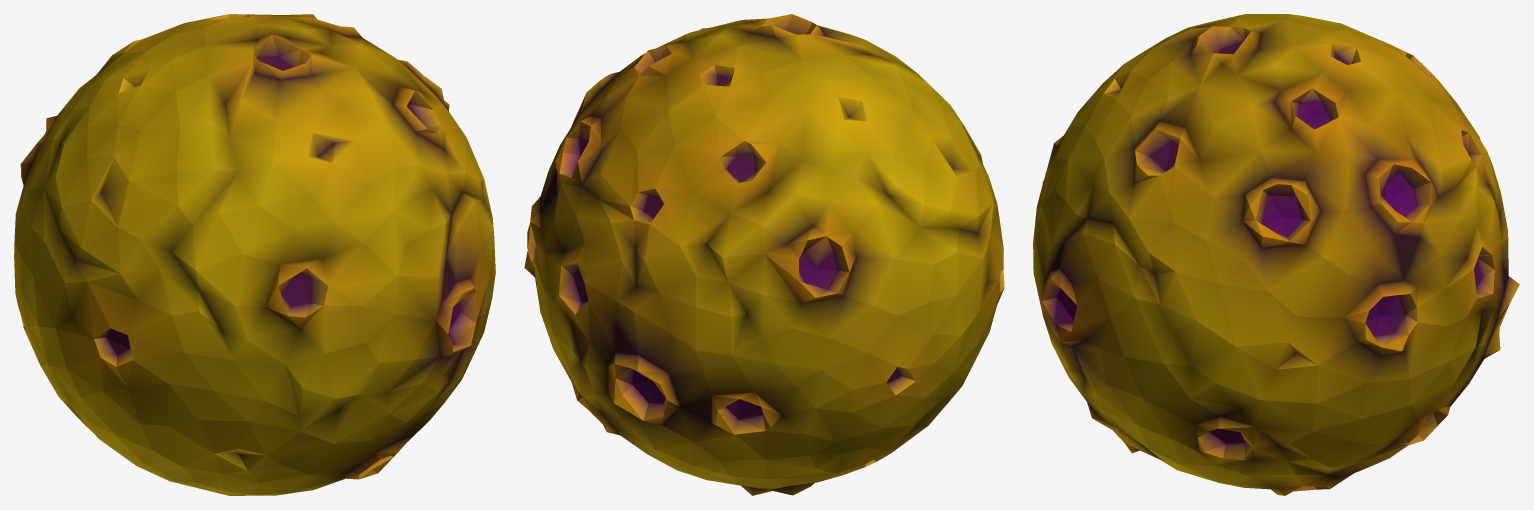
The model's file is moon43.fbx.
3 renders of one model, left to right at view 1: azimuth 30°, elevation 25°; view 2: azimuth 150°, elevation 25°; view 3: azimuth 270°, elevation 25°, orthographic. The views are drawn at different scales.
Visible parts, largest first — view 1: attribblur1; view 2: attribblur1; view 3: attribblur1.
Boxes of the visible parts, x1,y1,x2,y2 form: attribblur1: [14, 14, 495, 495]; attribblur1: [524, 14, 1004, 495]; attribblur1: [1033, 14, 1519, 495].
Size of the model in its own units: 0.9402 by 0.976 by 0.9647.
